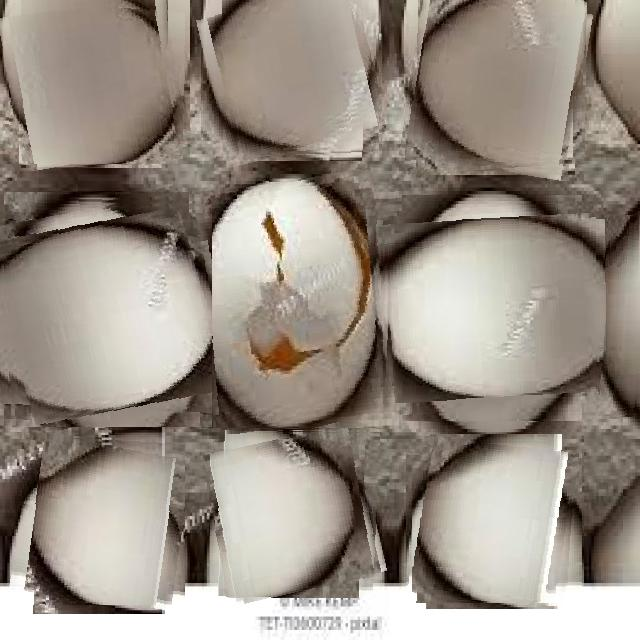biodegradable: (201, 174, 396, 428), (0, 195, 212, 427), (388, 204, 596, 412), (405, 0, 587, 175), (3, 0, 185, 164), (14, 435, 185, 605), (210, 429, 380, 598), (203, 0, 379, 159), (412, 440, 576, 603), (601, 215, 640, 417)
